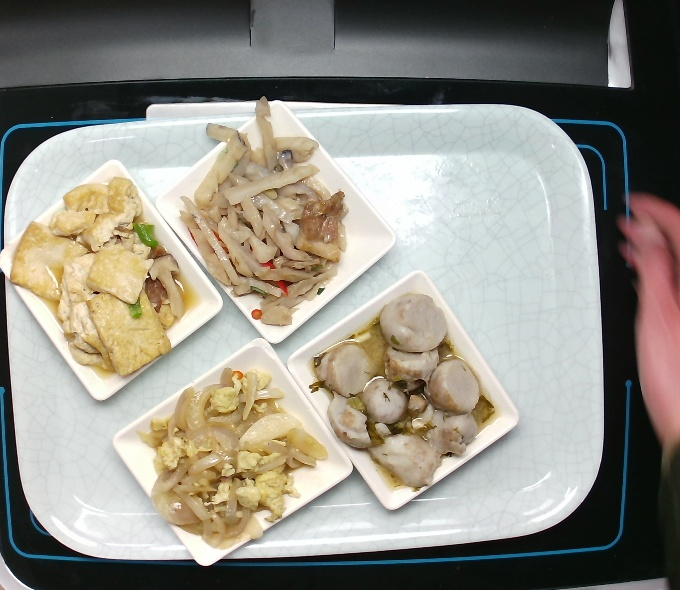wcq-JiaChangDouFu: (13, 178, 187, 382)
wcq-QingChaoOuPian: (180, 91, 353, 331)
wcq-YangCongChaoDan: (147, 366, 340, 554)
wcq-YangYu: (311, 296, 484, 492)
